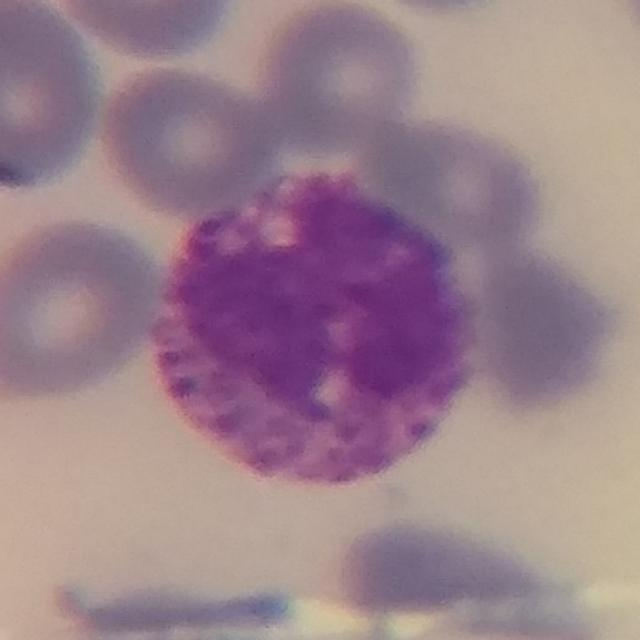baso: (136, 156, 498, 501)
